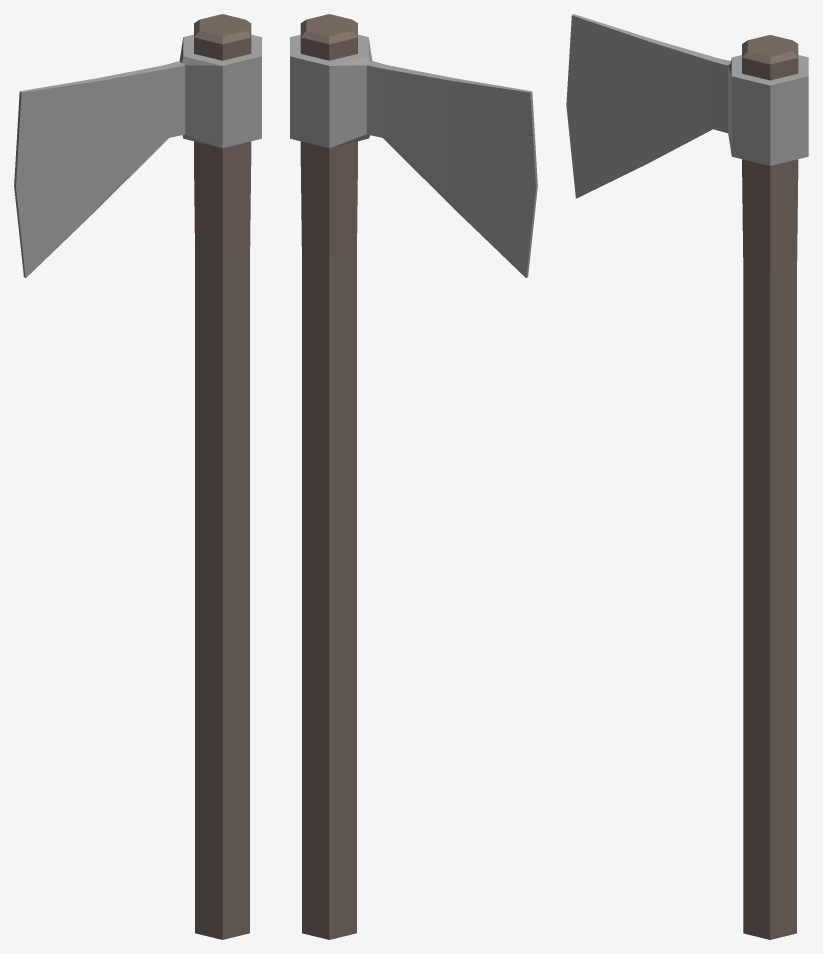
File: Machado.fbx
3 renders of one model, left to right at view 1: azimuth 30°, elevation 25°; view 2: azimuth 150°, elevation 25°; view 3: azimuth 330°, elevation 25°, orthographic. The views are drawn at different scales.
Visible parts, largest first — view 1: pasted__polySurface16, pCylinder16; view 2: pasted__polySurface16, pCylinder16; view 3: pasted__polySurface16, pCylinder16.
Part boxes in pixels (x1,y1,x2,y2): pasted__polySurface16: [194, 14, 251, 939]; pCylinder16: [14, 34, 261, 278]; pasted__polySurface16: [300, 14, 357, 939]; pCylinder16: [290, 34, 537, 278]; pasted__polySurface16: [742, 35, 798, 939]; pCylinder16: [566, 14, 808, 198].
Size of the model in its own units: 0.2786 by 0.972 by 0.0769.
